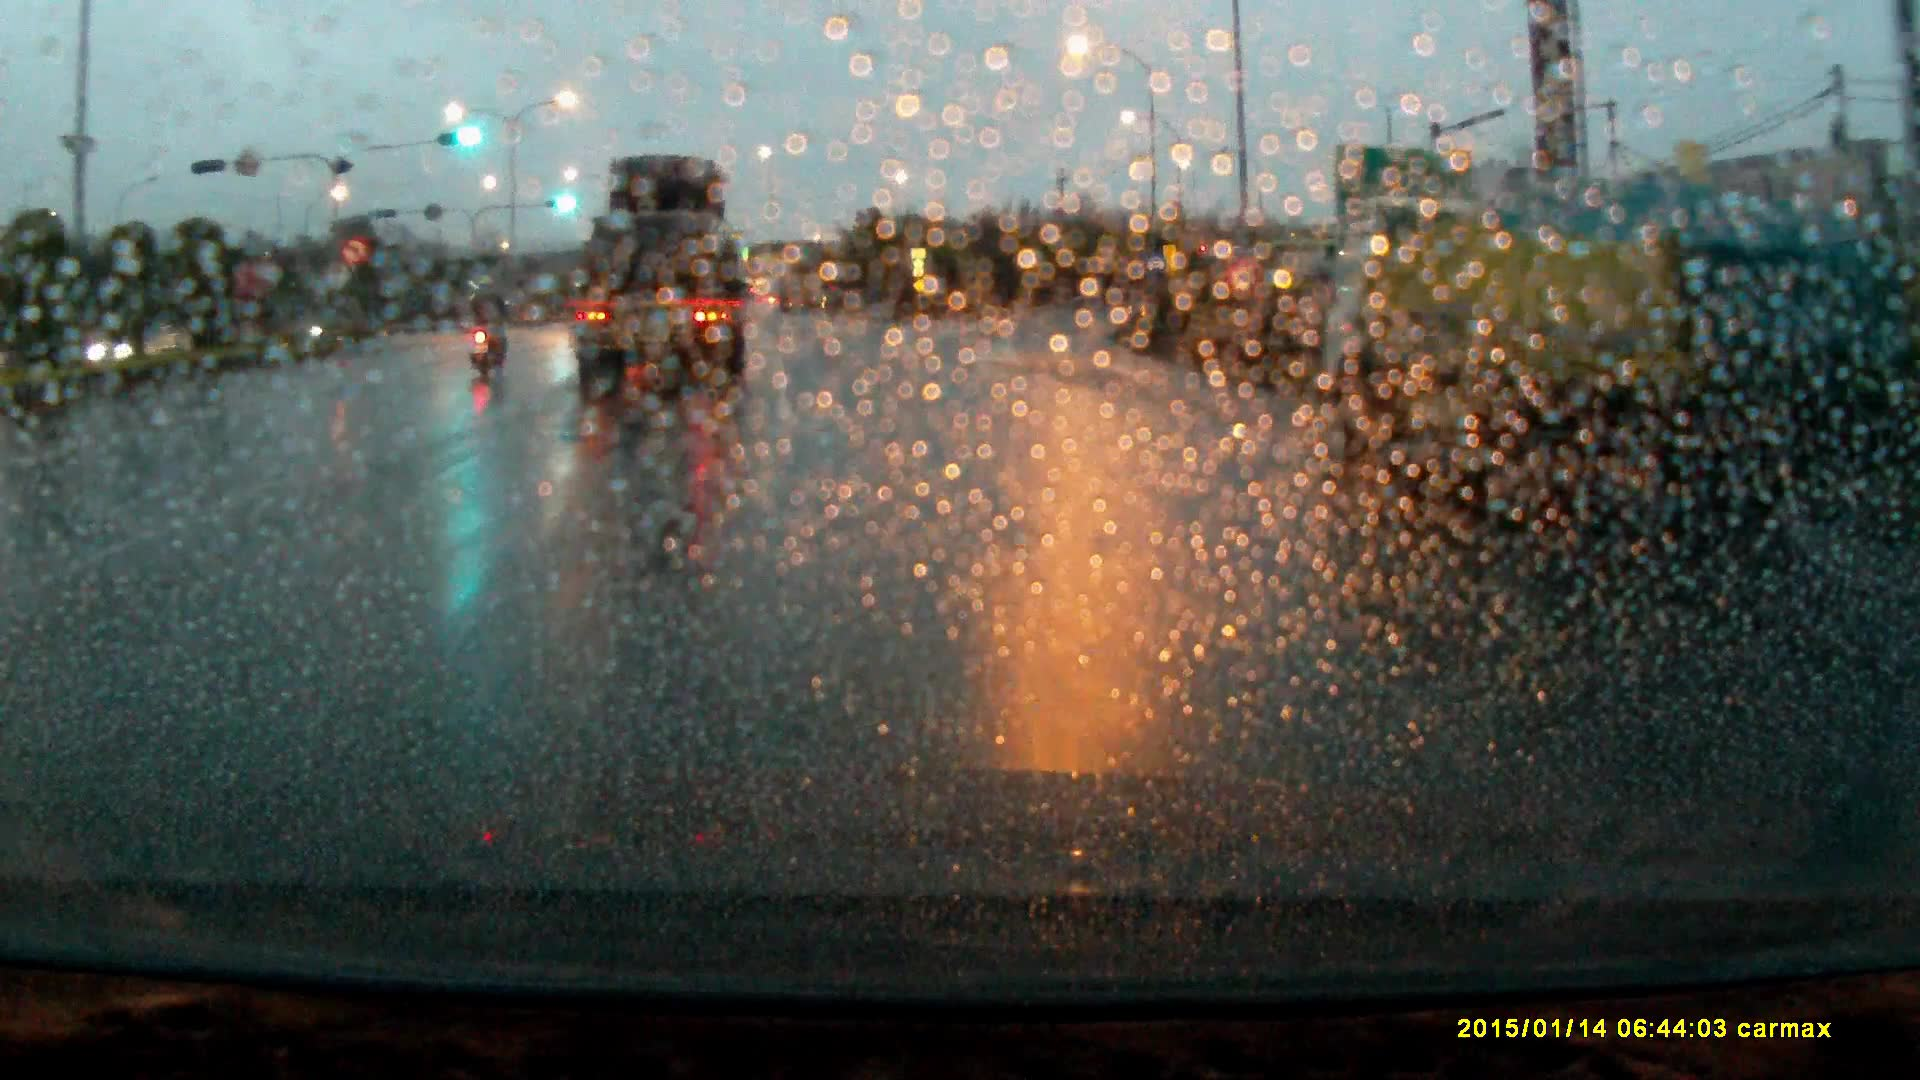rider: (464, 276, 513, 385)
vehicle: (1312, 185, 1886, 547), (567, 154, 750, 404)
